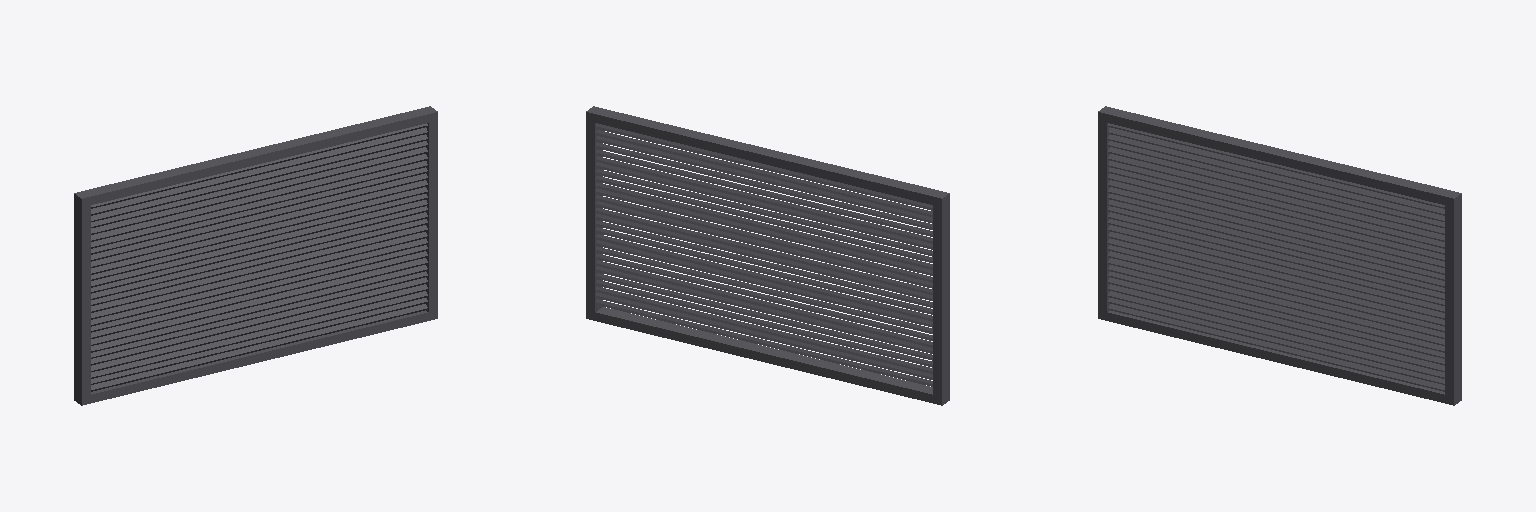
The model's file is airvent.obj.
3 renders of one model, left to right at view 1: azimuth 30°, elevation 25°; view 2: azimuth 150°, elevation 25°; view 3: azimuth 330°, elevation 25°, orthographic.
Visible parts, largest first — view 1: airvent; view 2: airvent; view 3: airvent.
Part boxes in pixels (x1,y1,x2,y2): airvent: (74,106,437,405); airvent: (586,106,949,405); airvent: (1098,106,1461,405).
Bounding box in the file's own units: 0.6515 × 0.3614 × 0.0243.